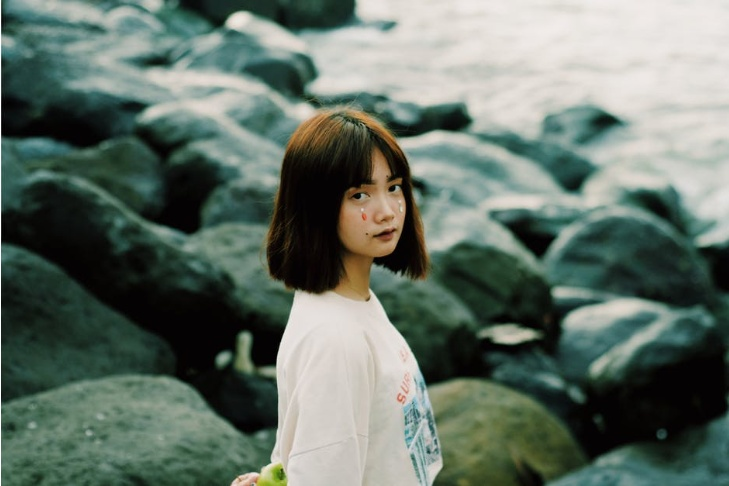face: (337, 156, 405, 258)
